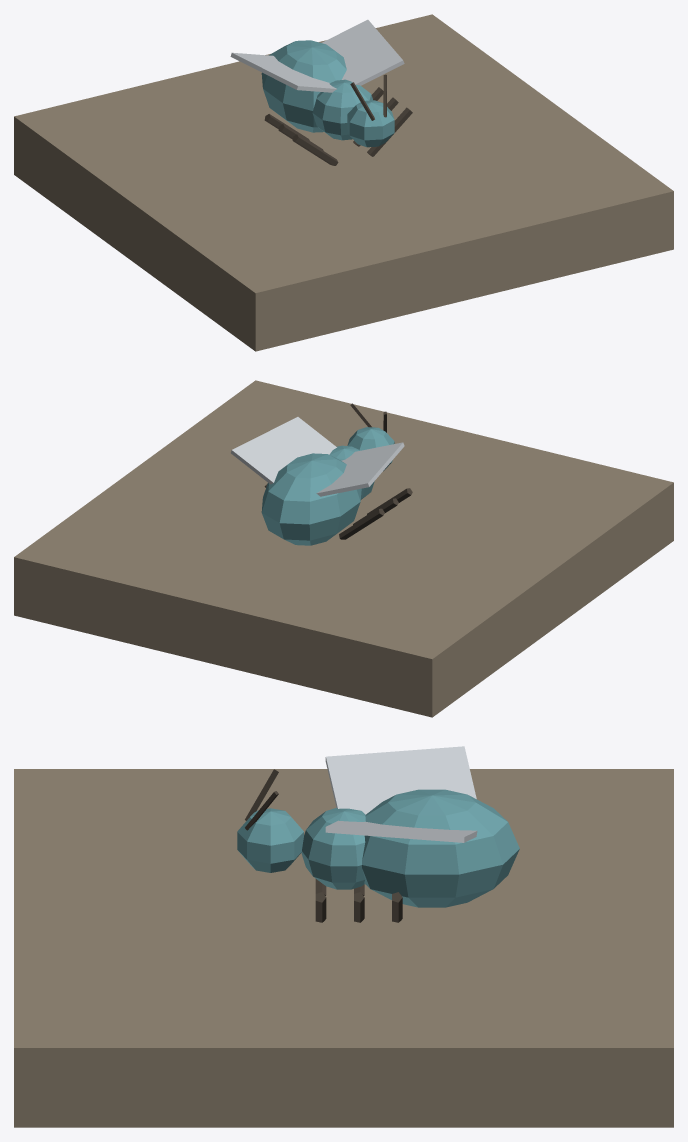
Rendered from bug_dragonfly.glb.
The picture shows the model from 3 angles, top to bottom: view 1: azimuth 30°, elevation 25°; view 2: azimuth 150°, elevation 25°; view 3: azimuth 270°, elevation 25°; orthographic projection. The views are drawn at different scales.
Parts seen in each view (by area): view 1: Base, TurretMesh, HeadMesh; view 2: Base, TurretMesh, HeadMesh; view 3: Base, TurretMesh, HeadMesh.
Part boxes in pixels (x1,y1,x2,y2): Base: (14, 14, 673, 351); TurretMesh: (230, 19, 412, 165); HeadMesh: (347, 74, 394, 147); Base: (14, 380, 673, 717); TurretMesh: (231, 417, 412, 545); HeadMesh: (347, 403, 394, 471); Base: (14, 769, 673, 1127); TurretMesh: (301, 746, 519, 922); HeadMesh: (237, 769, 303, 872).
Size of the model in its own units: 1.8 by 0.6249 by 1.8.
